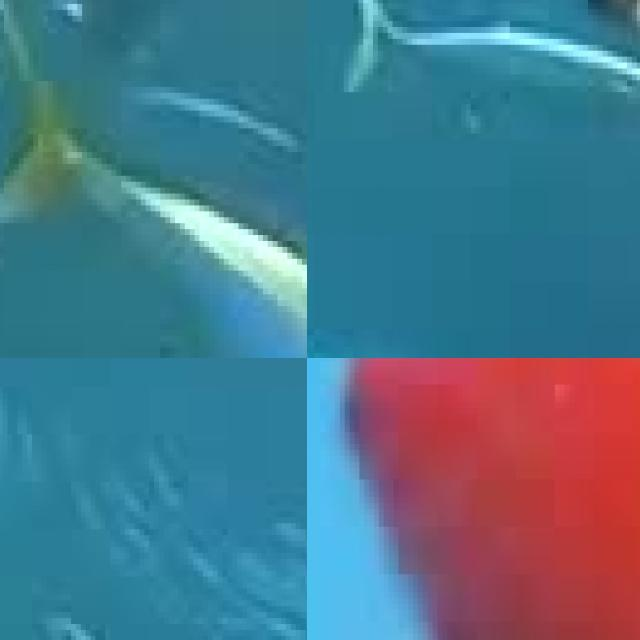fish: (0, 4, 307, 358), (307, 358, 640, 485)
